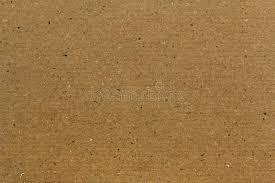Cardboard: (1, 1, 275, 183)
